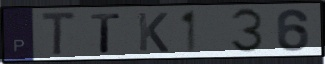1: (179, 8, 201, 56)
3: (228, 7, 266, 55)
6: (274, 7, 310, 53)
K: (135, 11, 171, 54)
T: (40, 11, 79, 58), (89, 12, 123, 54)
